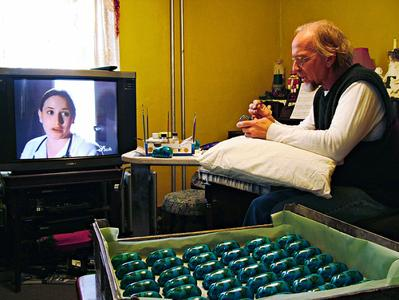person: (237, 21, 394, 226)
